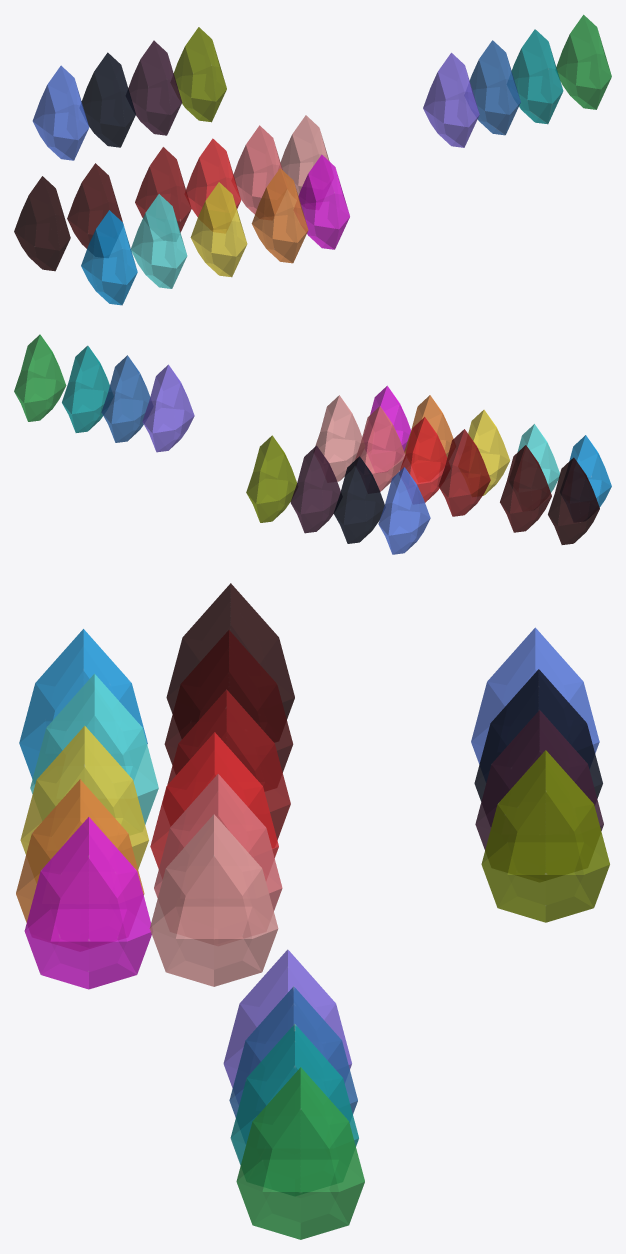
File: Gem.fbx
3 renders of one model, top to bottom at view 1: azimuth 30°, elevation 25°; view 2: azimuth 150°, elevation 25°; view 3: azimuth 270°, elevation 25°, orthographic. The views are drawn at different scales.
Visible parts, largest first — view 1: hue_Puzzle.011, hue_Puzzle.001, hue_Puzzle.012, hue_Puzzle.010, hue_Puzzle.016, hue_Puzzle.013, hue_Puzzle.014, hue_Puzzle.019, hue_Puzzle.002, hue_Puzzle.003, hue_Puzzle.004, hue_Puzzle.018 (+7 smaller); view 2: hue_Puzzle.016, hue_Puzzle.008, hue_Puzzle.010, hue_Puzzle.009, hue_Puzzle.019, hue_Puzzle.001, hue_Puzzle.002, hue_Puzzle.004, hue_Puzzle.003, hue_Puzzle.017, hue_Puzzle.018, hue_Puzzle.006 (+7 smaller); view 3: hue_Puzzle.004, hue_Puzzle.005, hue_Puzzle.019, hue_Puzzle.015, hue_Puzzle.009, hue_Puzzle.013, hue_Puzzle.012, hue_Puzzle.010, hue_Puzzle.011, hue_Puzzle.008, hue_Puzzle.018, hue_Puzzle.007 (+7 smaller).
Boxes of the visible parts, x1,y1,x2,y2 form: hue_Puzzle.011: (81, 210, 137, 305); hue_Puzzle.001: (32, 65, 89, 160); hue_Puzzle.012: (131, 194, 187, 288); hue_Puzzle.010: (14, 176, 70, 271); hue_Puzzle.016: (423, 52, 479, 147); hue_Puzzle.013: (190, 182, 247, 277); hue_Puzzle.014: (251, 168, 308, 263); hue_Puzzle.019: (556, 14, 611, 109); hue_Puzzle.002: (81, 52, 135, 147); hue_Puzzle.003: (128, 40, 182, 135); hue_Puzzle.004: (173, 27, 226, 122); hue_Puzzle.018: (511, 29, 563, 124); hue_Puzzle.016: (142, 364, 194, 452); hue_Puzzle.008: (438, 429, 490, 516); hue_Puzzle.010: (548, 457, 599, 544); hue_Puzzle.009: (500, 445, 551, 532); hue_Puzzle.019: (14, 334, 66, 421); hue_Puzzle.001: (378, 467, 430, 554); hue_Puzzle.002: (333, 456, 384, 543); hue_Puzzle.004: (246, 435, 296, 522); hue_Puzzle.003: (290, 445, 340, 533); hue_Puzzle.017: (101, 355, 150, 442); hue_Puzzle.018: (62, 345, 109, 432); hue_Puzzle.006: (355, 406, 405, 491); hue_Puzzle.004: (481, 750, 609, 922); hue_Puzzle.005: (149, 814, 278, 986); hue_Puzzle.019: (236, 1067, 364, 1239); hue_Puzzle.015: (24, 817, 151, 989); hue_Puzzle.009: (164, 630, 293, 772); hue_Puzzle.013: (20, 726, 148, 869); hue_Puzzle.012: (30, 673, 158, 824); hue_Puzzle.010: (166, 583, 294, 719); hue_Puzzle.011: (19, 629, 147, 778); hue_Puzzle.008: (167, 689, 290, 840); hue_Puzzle.018: (230, 1024, 358, 1165); hue_Puzzle.007: (150, 732, 278, 868).
Size of the model in its own units: 18153 by 3865 by 8500.
